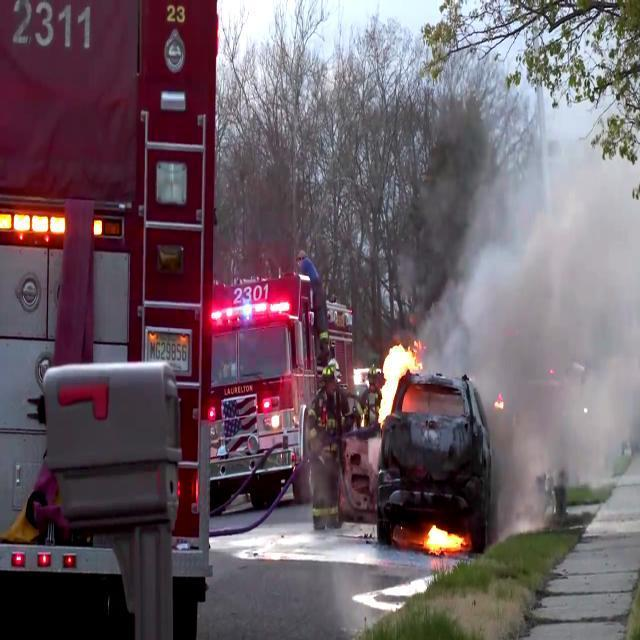Fire: (376, 336, 414, 426), (423, 522, 466, 559)
Smoke: (456, 69, 640, 518)
